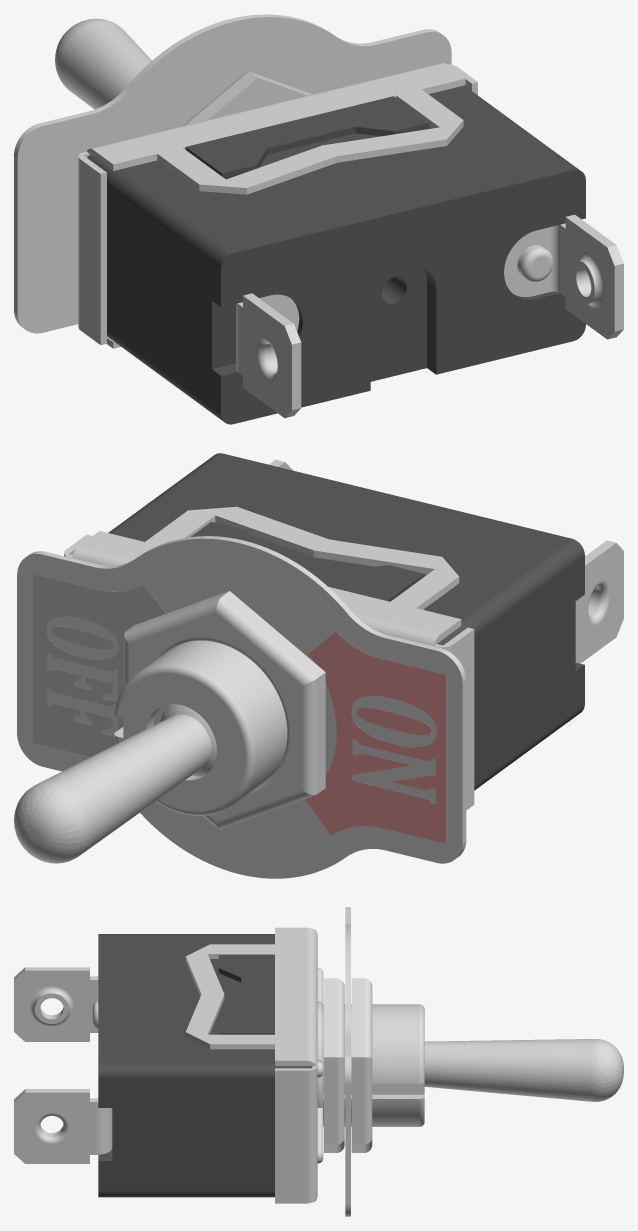
Rendered from Assembly Switch ON-OFF Steren v3.glb.
3 renders of one model, top to bottom at view 1: azimuth 30°, elevation 25°; view 2: azimuth 150°, elevation 25°; view 3: azimuth 270°, elevation 25°, orthographic. The views are drawn at different scales.
Parts seen in each view (by area): view 1: Node2, Node1; view 2: Node1, Node2, Node3, Node4; view 3: Node1, Node2.
Boxes of the visible parts, x1,y1,x2,y2 form: Node2: (87,85,585,424); Node1: (14,14,623,418); Node1: (14,459,623,878); Node2: (108,453,584,790); Node3: (305,632,446,843); Node4: (33,574,165,756); Node1: (14,907,623,1216); Node2: (98,934,312,1197).
Bounding box in the file's own units: 34.5 × 24.5 × 54.21.
